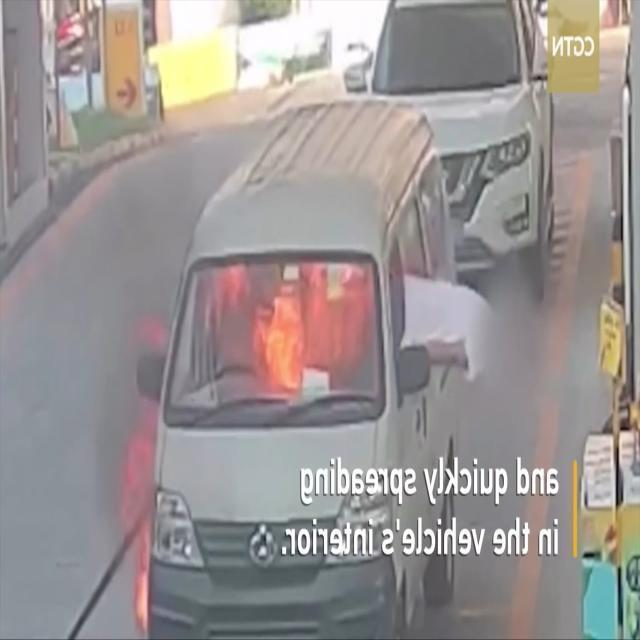fire: (230, 256, 374, 402), (116, 314, 166, 624)
